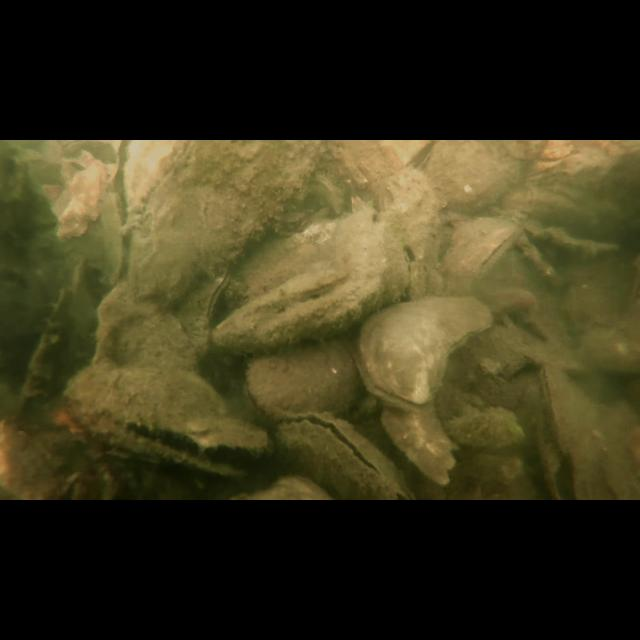Oyster-Closed: (127, 140, 323, 306), (351, 294, 492, 410), (210, 263, 380, 349), (92, 282, 198, 376), (244, 341, 358, 422), (422, 140, 522, 212), (379, 403, 458, 489), (442, 217, 522, 295), (538, 360, 590, 452), (177, 268, 231, 352)
Oyster-Open: (64, 364, 268, 478), (276, 412, 416, 501), (534, 406, 588, 499)
